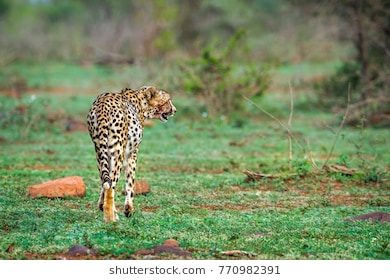Cheetah: (81, 84, 179, 224)
